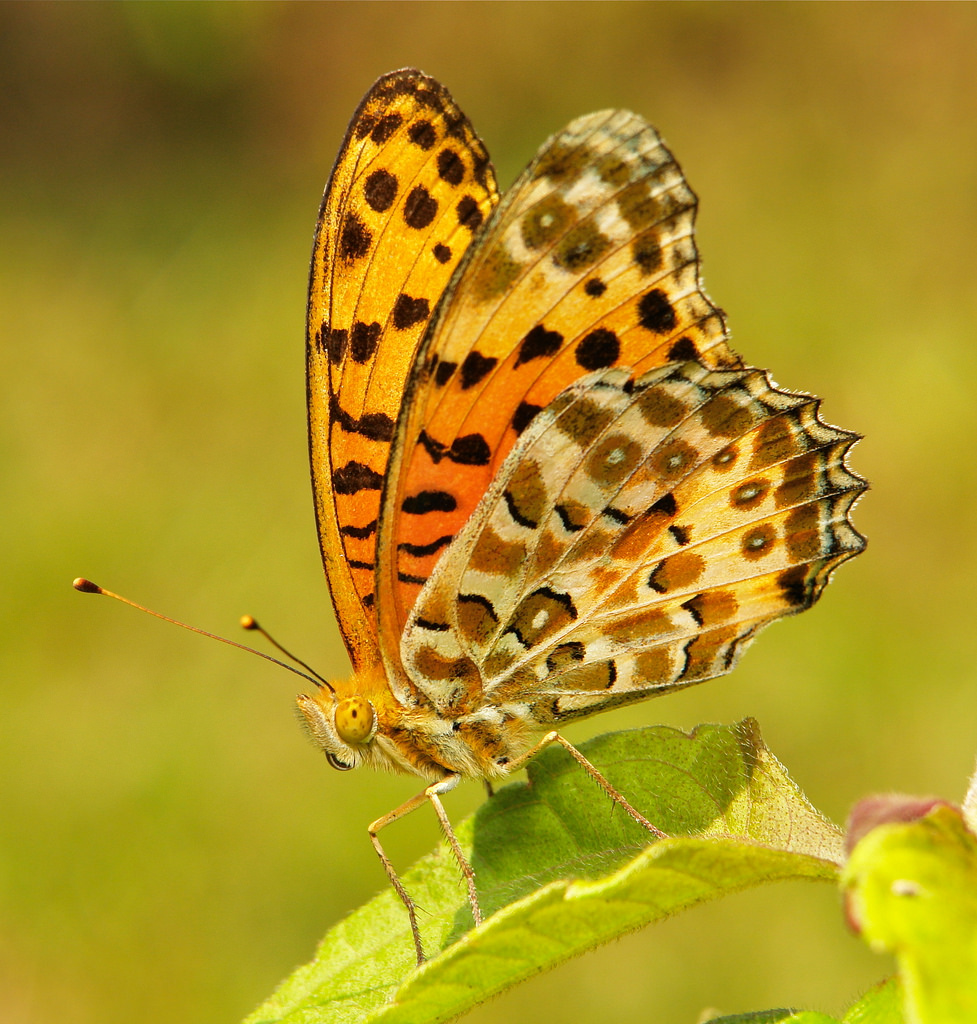Argyreus hyperbius: (62, 59, 881, 966)
butterfly: (64, 61, 883, 968)
